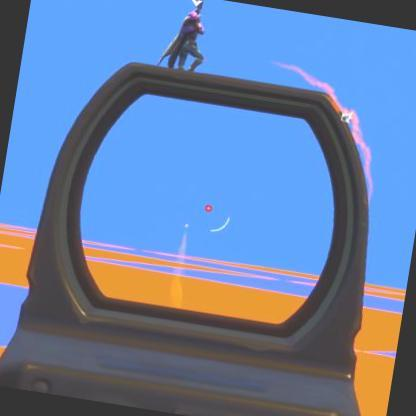person: (158, 0, 213, 74)
